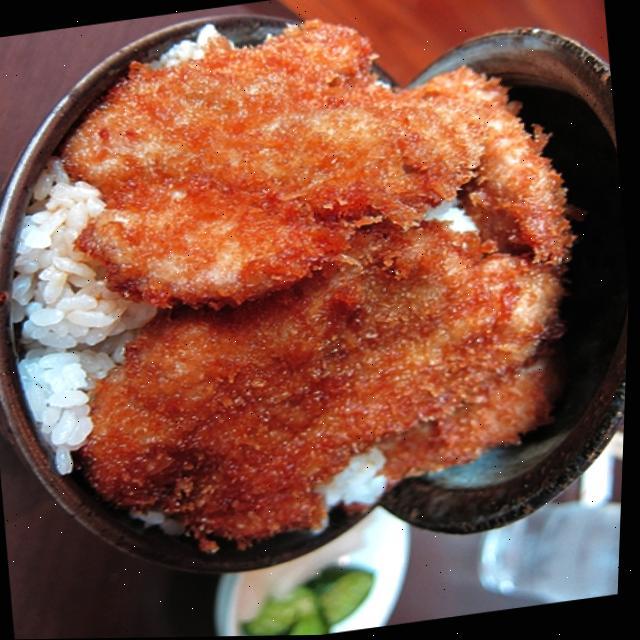牛肉菜式: (18, 0, 629, 587)
